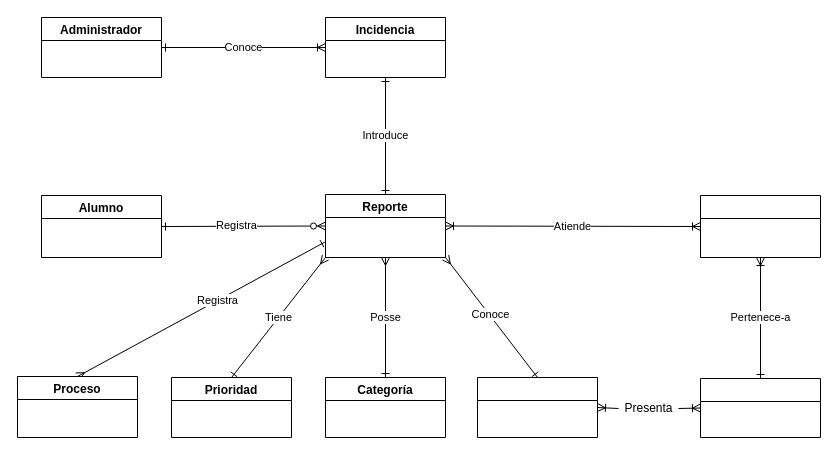
Some shapes in this 838 by 455 pixel diagram are drawn without their labels. Each missing label, with the centre of its shape:
"Empleado" belongs at pixel 760 226.
"Nivel de Actuacion" belongs at pixel 760 408.
"Servicio" belongs at pixel 537 407.
